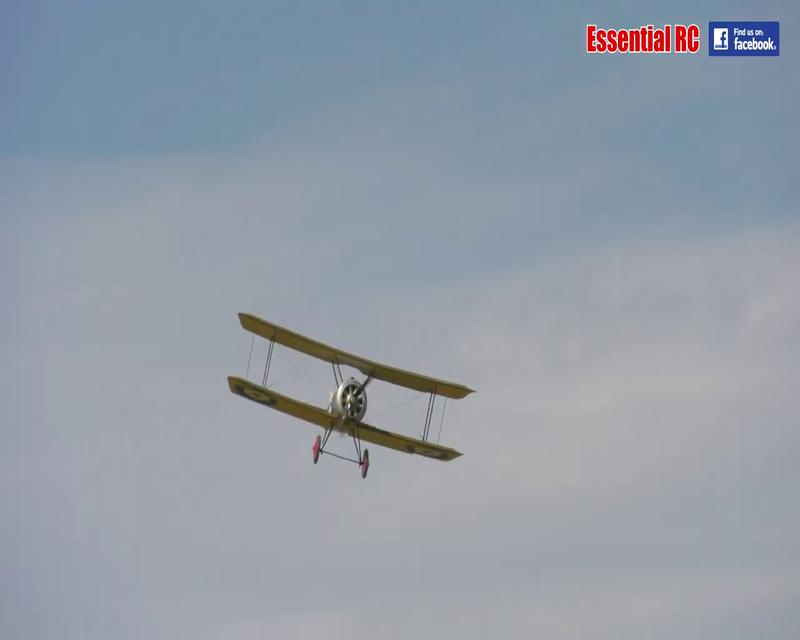UAV: (226, 311, 478, 479), (585, 22, 701, 54)
